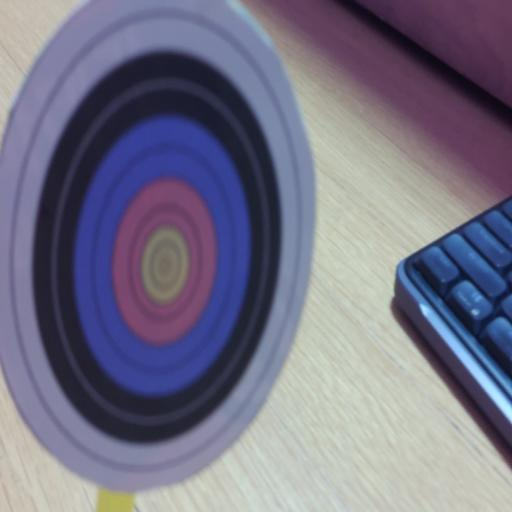target: (0, 0, 314, 491)
